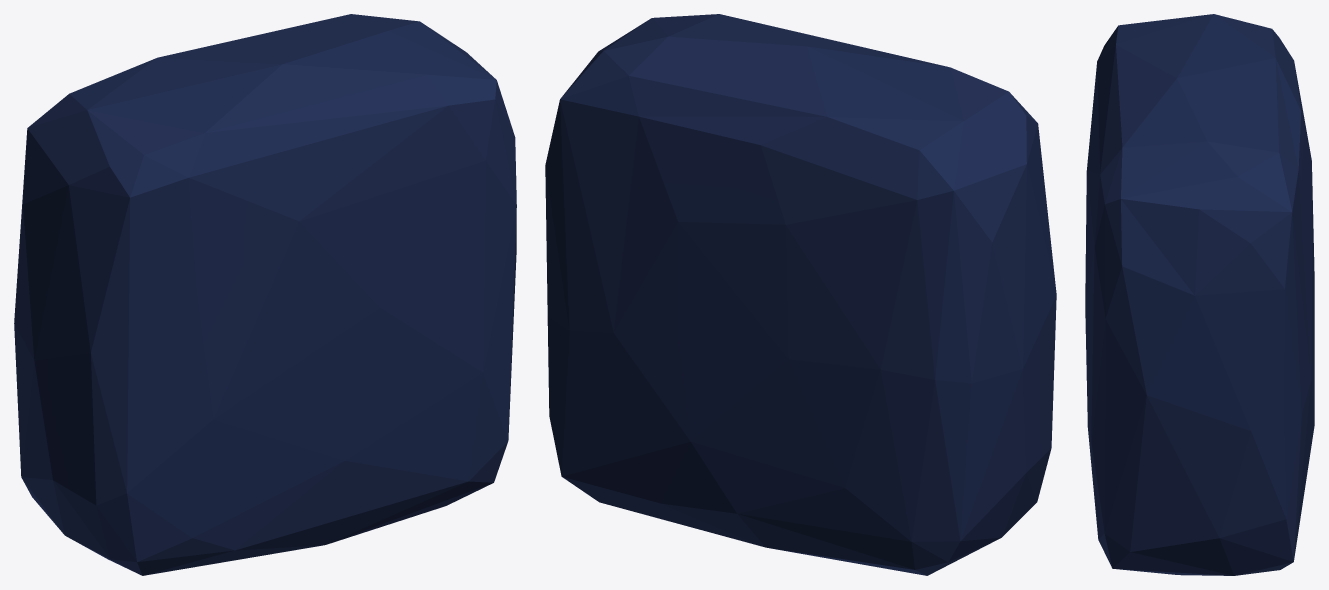
File: palette_mesh_1.fbx
3 views of the same model, side by side, from view 1: azimuth 30°, elevation 25°; view 2: azimuth 150°, elevation 25°; view 3: azimuth 270°, elevation 25° (orthographic). The views are drawn at different scales.
Visible parts, largest first — view 1: Trophy - Base; view 2: Trophy - Base; view 3: Trophy - Base.
Boxes of the visible parts, box(x1,y1,x2,y2) form: Trophy - Base: box(14, 14, 516, 575); Trophy - Base: box(545, 14, 1056, 575); Trophy - Base: box(1085, 14, 1314, 575).
Size of the model in its own units: 9.81 by 4.63 by 9.82.
